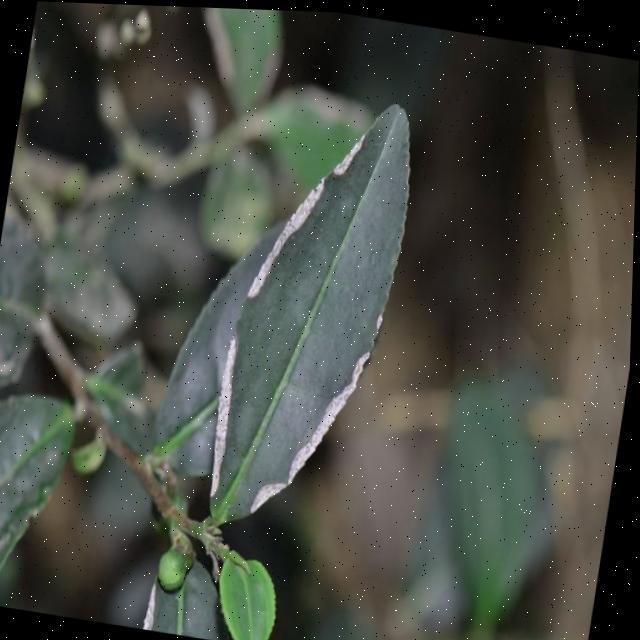Tea cloud leaf blight: (204, 121, 420, 505)
